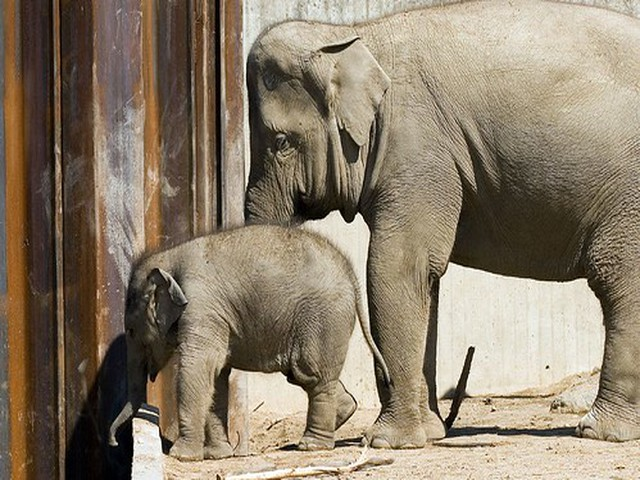Elephant: (123, 1, 640, 457)
